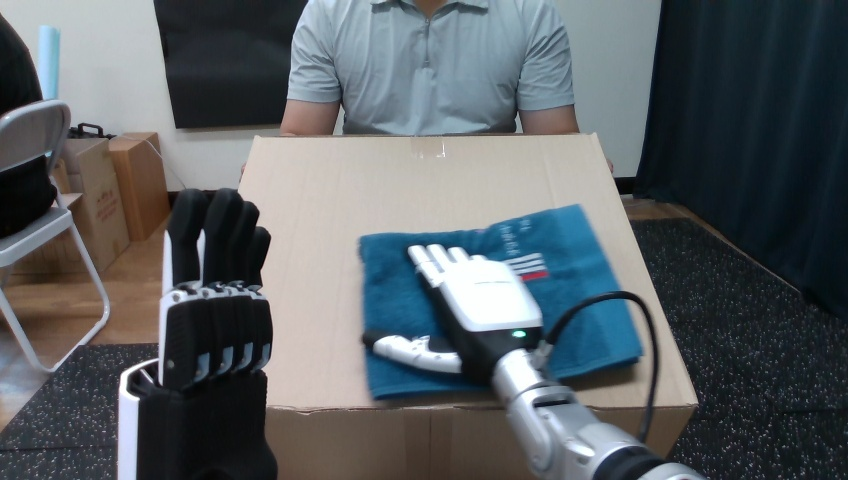left robot hand: (362, 244, 704, 479), (118, 188, 276, 478), (544, 298, 653, 439)
